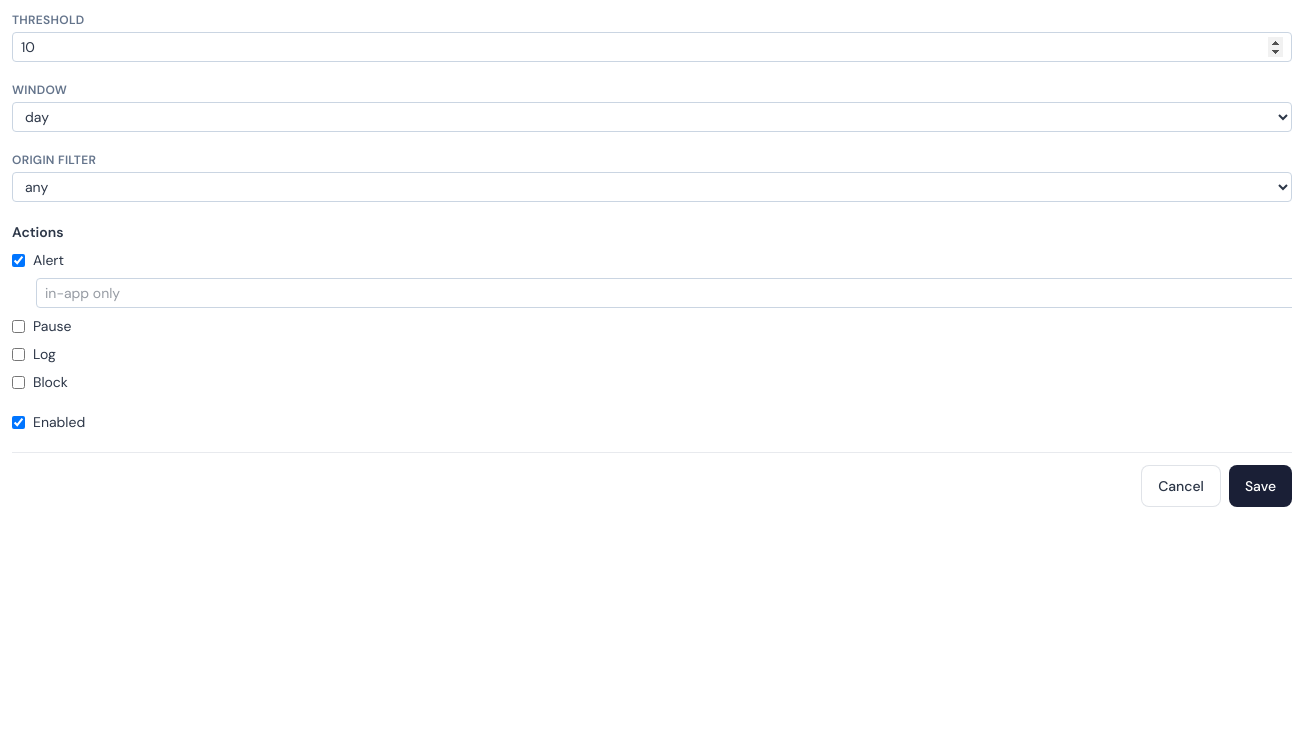
Test: RuleDrawerBody validation › disables Save when no action is selected (a rule must do something on trip)
What coordinates should you click on to do the following:
click the checkbox labelled "Alert"
I would click on:
 (18, 260)
Its box is [12,254,25,266].
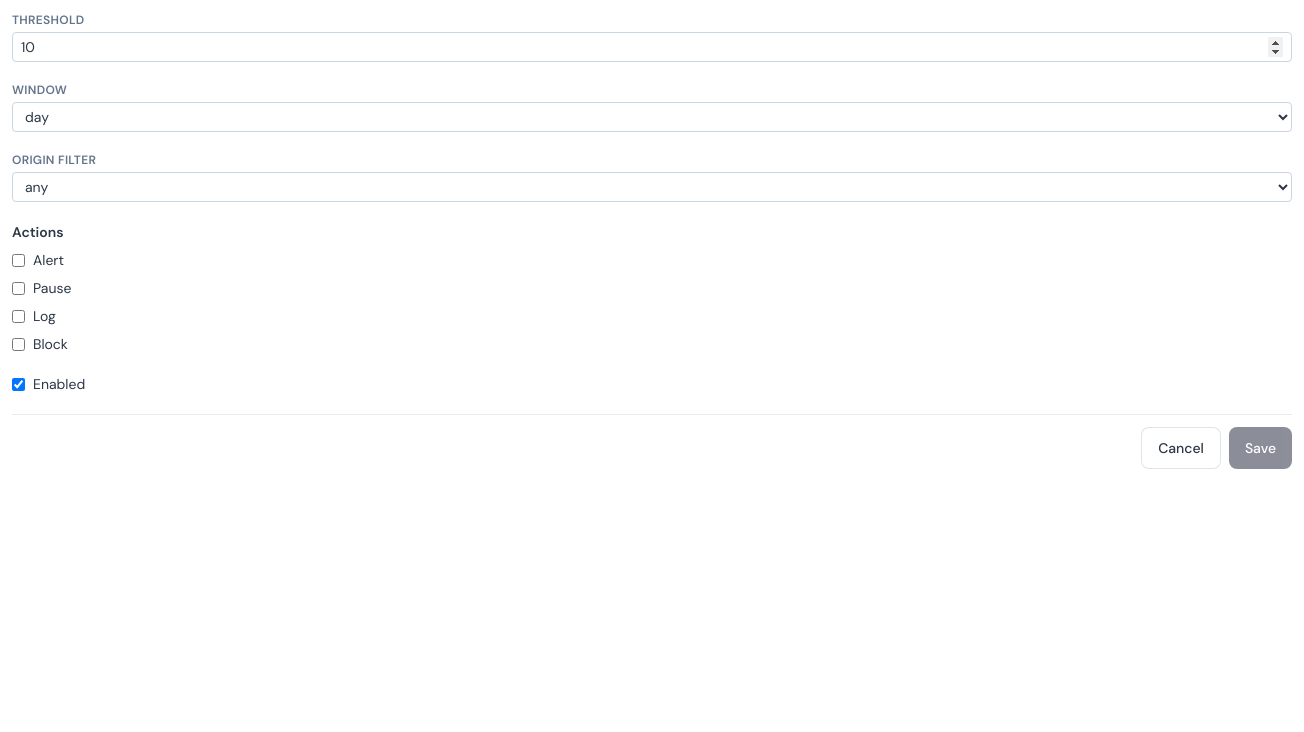
Result: the button "Save" is disabled at [1229,427,1292,469]
What coordinates should you click on to do the following:
click the checkbox labelled "Log"
I would click on:
 (18, 316)
Its box is [12,310,25,322].
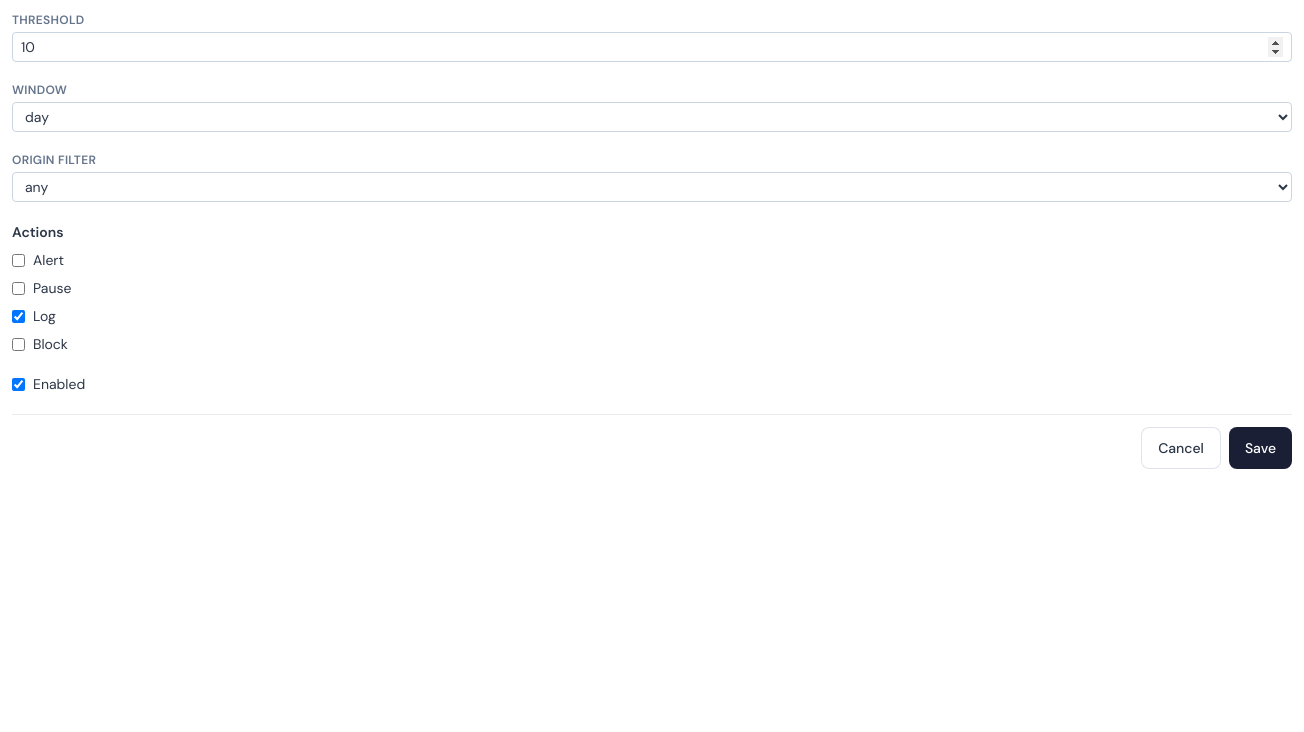
Result: the button "Save" is enabled at [1229,427,1292,469]
